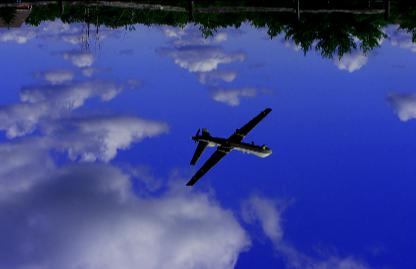MQ9: (184, 108, 276, 186)
